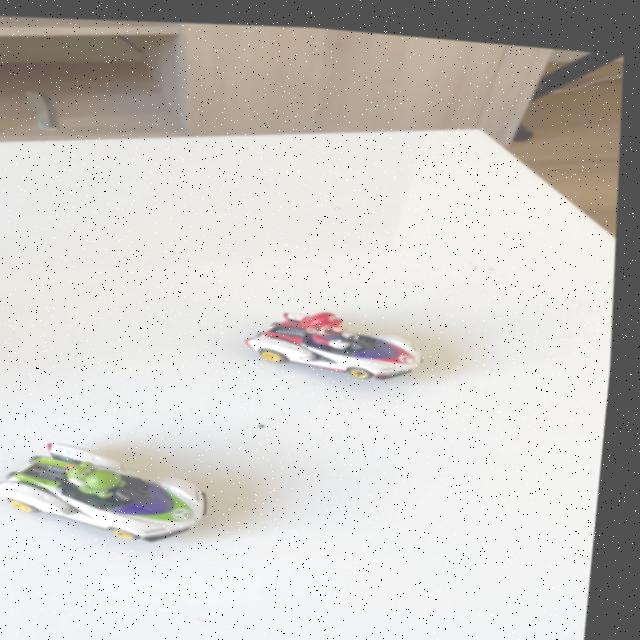mario: (231, 286, 453, 391)
yoshi: (0, 421, 241, 561)
